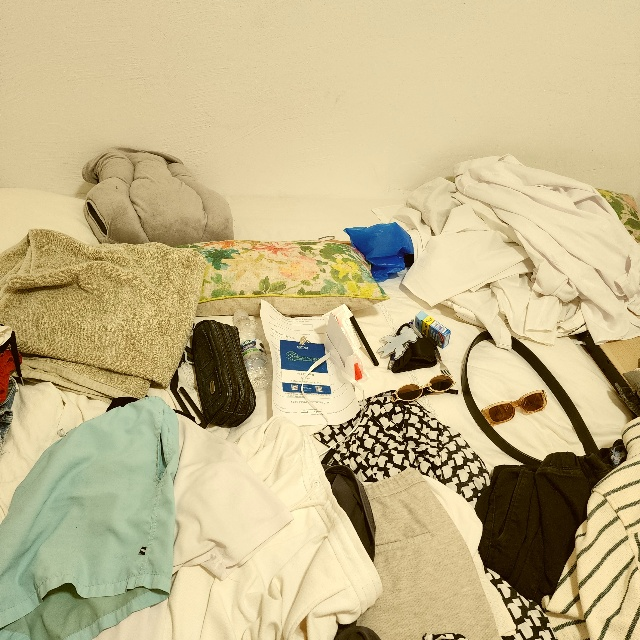glasses: (480, 388, 553, 429), (391, 375, 459, 405)
